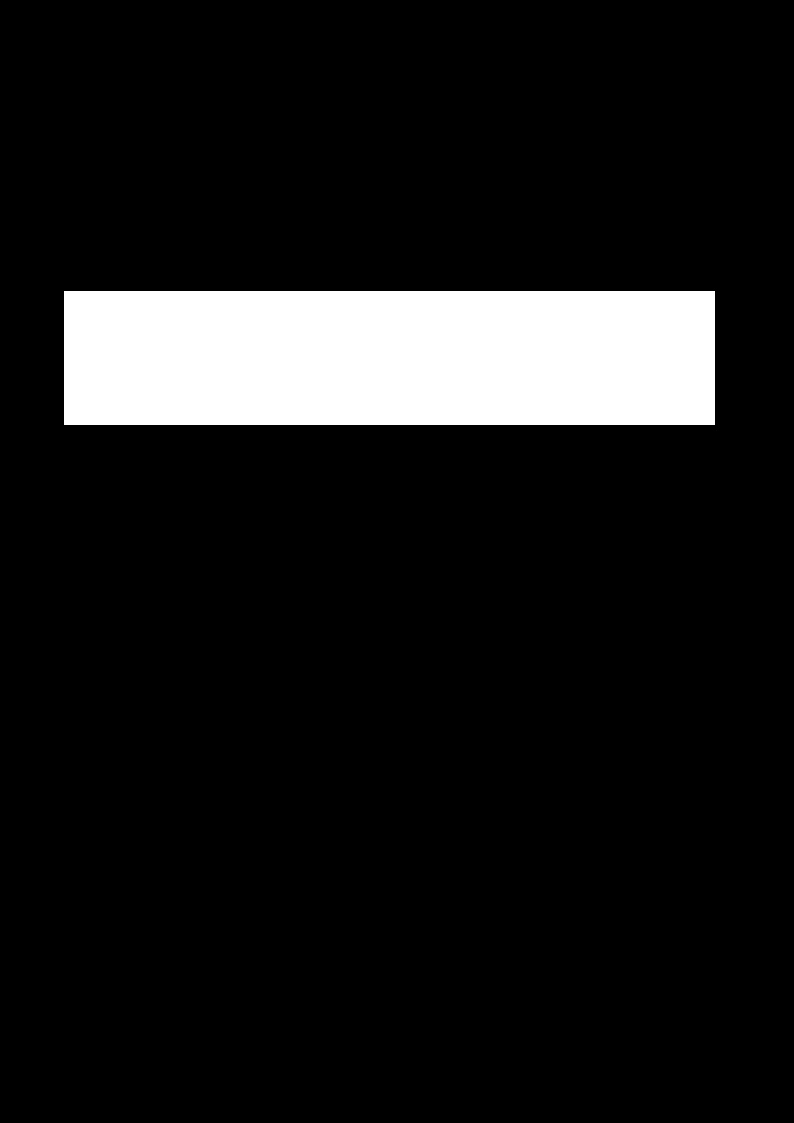table: (64, 291, 714, 424)
